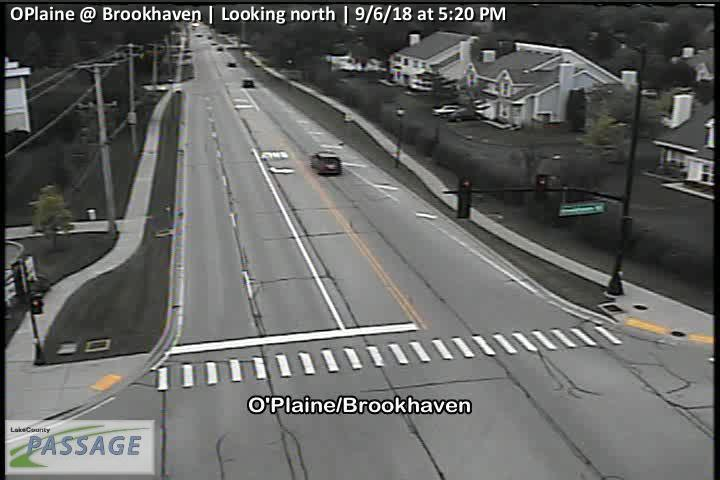Sedan: (311, 149, 341, 174)
